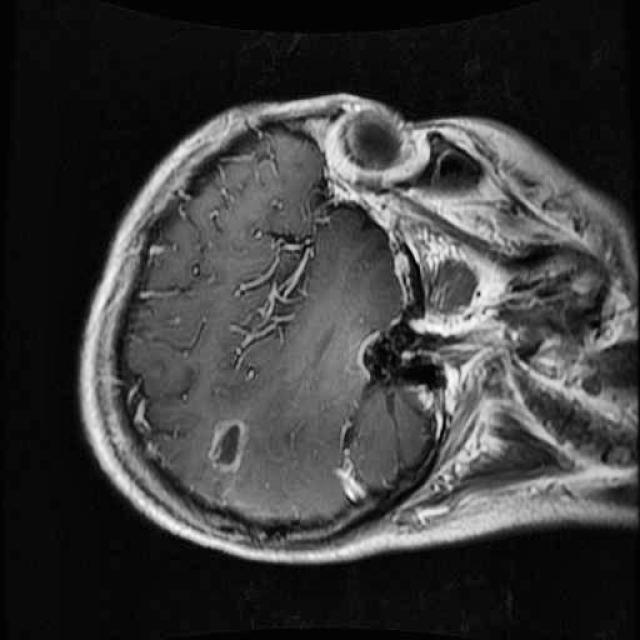Non-Tumor: (193, 400, 269, 485)
